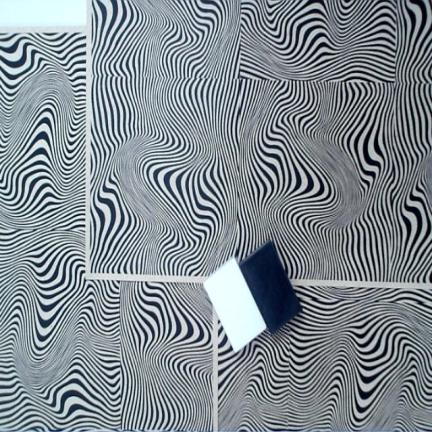Paralelepipedo: (202, 257, 268, 353), (238, 240, 303, 332)
